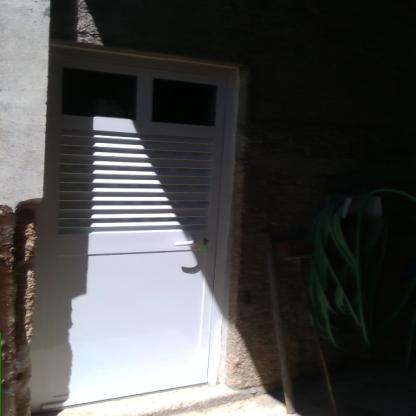closed: (15, 45, 258, 415)
